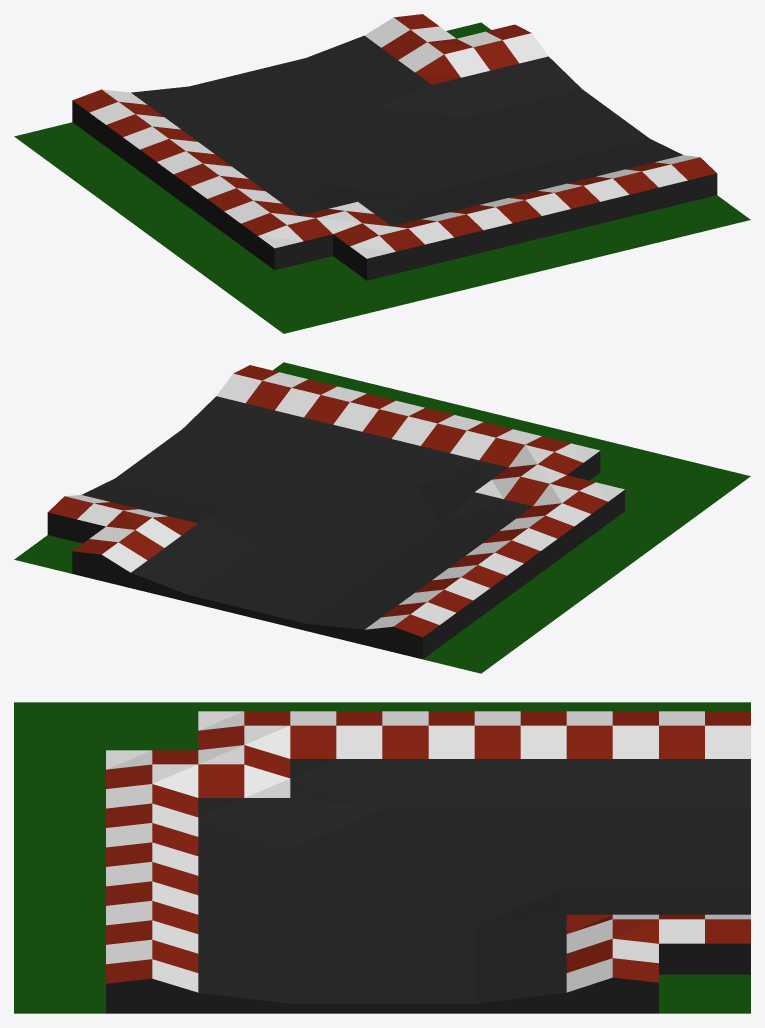
The model's file is Corner.obj.
3 renders of one model, top to bottom at view 1: azimuth 30°, elevation 25°; view 2: azimuth 150°, elevation 25°; view 3: azimuth 270°, elevation 25°, orthographic. The views are drawn at different scales.
Size of the model in its own units: 8 by 0.4331 by 8.
